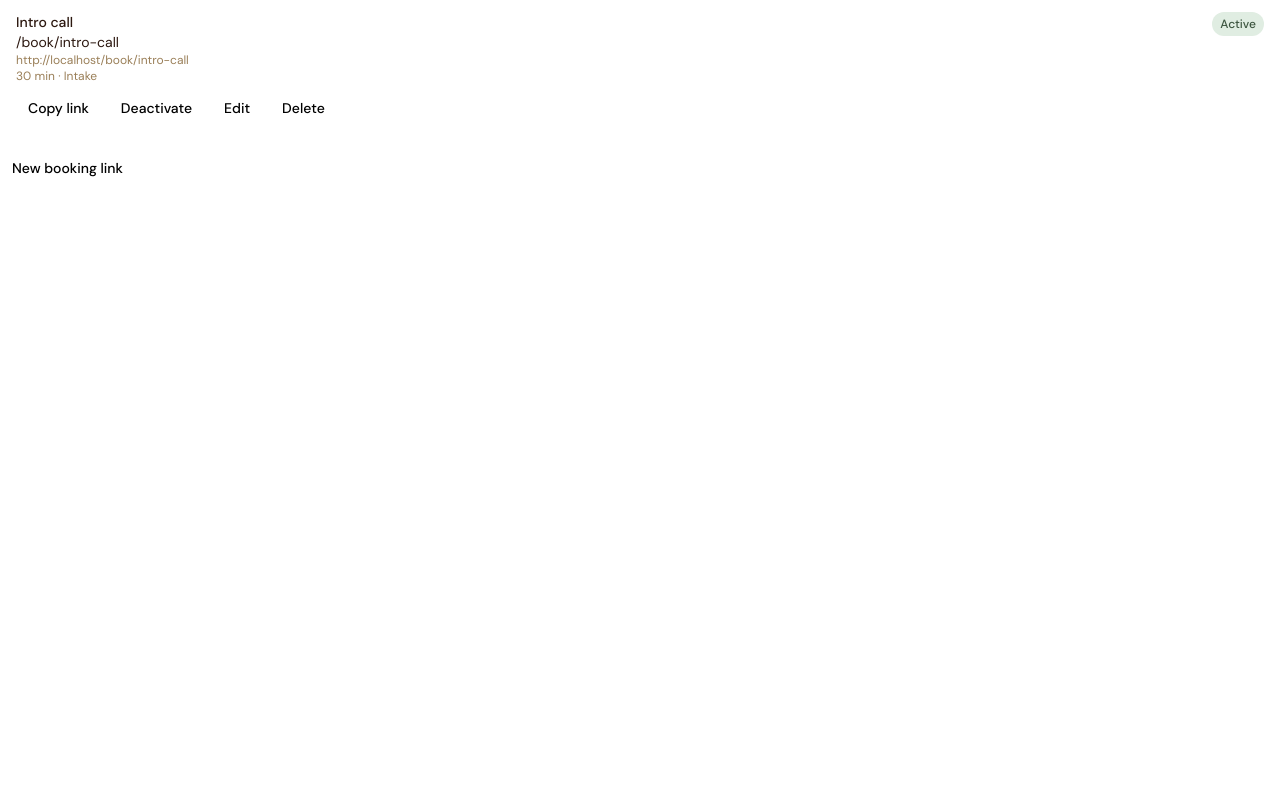
Test: BookingLinkSettings › opens the delete dialog when Delete is clicked
Click the button "Delete": coordinates (303, 108) left=270, top=92, right=337, bottom=124
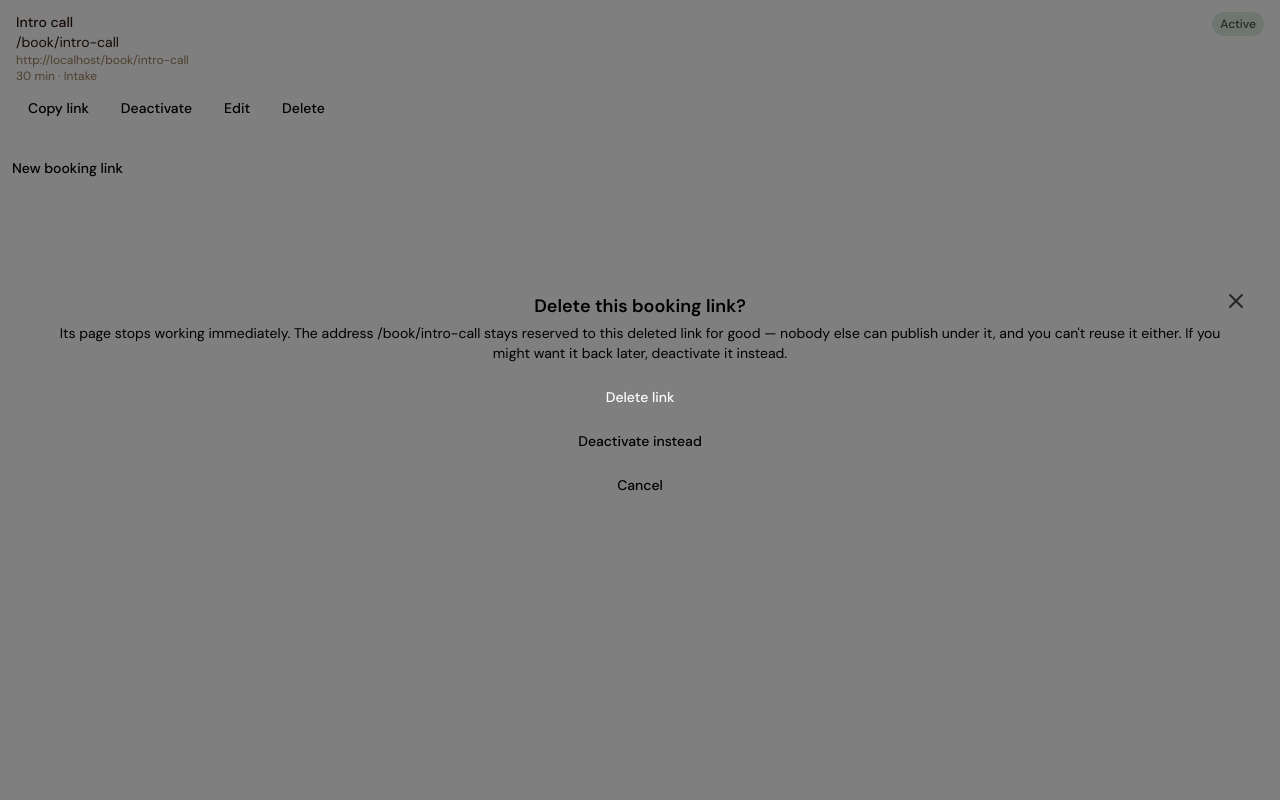
Result: the dialog shows "Delete this booking link?" at left=534, top=294, right=746, bottom=318
